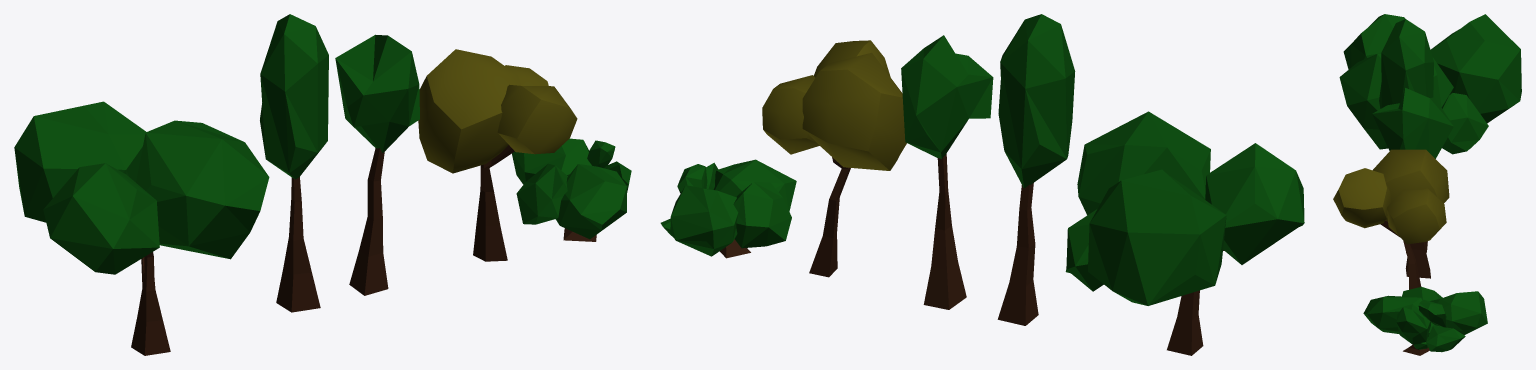
File: tree (1).FBX
3 views of the same model, side by side, from view 1: azimuth 30°, elevation 25°; view 2: azimuth 150°, elevation 25°; view 3: azimuth 270°, elevation 25° (orthographic). The views are drawn at different scales.
Visible parts, largest first — view 1: crown1, crown4, crown2, crown5, crown3, trunk3, trunk2, trunk4, trunk1; view 2: crown1, crown4, crown2, crown5, crown3, trunk3, trunk2, trunk4, trunk1; view 3: crown1, crown4, crown5, crown2, crown3, trunk3, trunk4, trunk5.
Part boxes in pixels (bbox=[...]): crown1: bbox=[14, 101, 269, 274]; crown4: bbox=[418, 49, 577, 173]; crown2: bbox=[260, 14, 328, 179]; crown5: bbox=[512, 138, 631, 239]; crown3: bbox=[335, 34, 419, 152]; trunk3: bbox=[349, 148, 388, 295]; trunk2: bbox=[276, 177, 320, 312]; trunk4: bbox=[473, 145, 514, 261]; trunk1: bbox=[131, 252, 170, 355]; crown1: bbox=[1065, 111, 1304, 305]; crown4: bbox=[762, 40, 906, 170]; crown2: bbox=[998, 14, 1075, 188]; crown5: bbox=[660, 159, 796, 256]; crown3: bbox=[901, 35, 993, 158]; trunk3: bbox=[923, 154, 966, 309]; trunk2: bbox=[997, 183, 1038, 325]; trunk4: bbox=[809, 157, 850, 277]; trunk1: bbox=[1167, 250, 1223, 355]; crown1: bbox=[1339, 14, 1521, 154]; crown4: bbox=[1333, 149, 1449, 244]; crown5: bbox=[1363, 287, 1487, 352]; crown2: bbox=[1379, 19, 1433, 108]; crown3: bbox=[1372, 87, 1453, 158]; trunk3: bbox=[1405, 242, 1430, 278]; trunk4: bbox=[1380, 220, 1421, 289]; trunk5: bbox=[1403, 344, 1429, 355].
Size of the model in its own units: 81.57 by 39.48 by 30.14.
